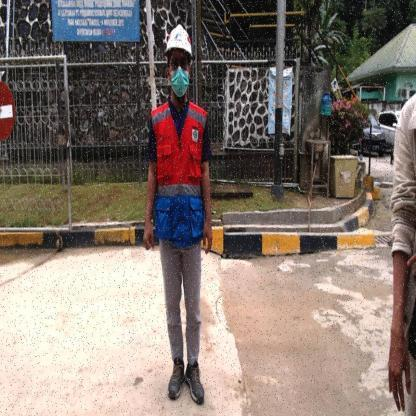boots: (166, 350, 186, 402), (184, 363, 208, 405)
helmet: (161, 22, 200, 64)
mask: (167, 68, 192, 96)
